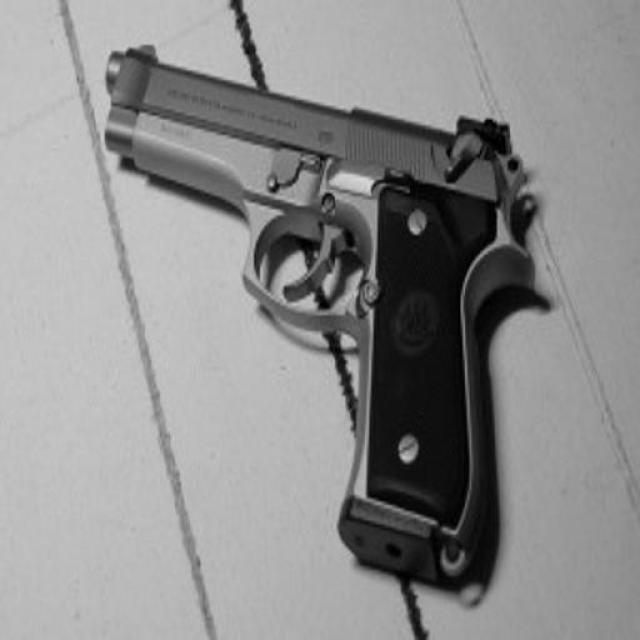pistol: (104, 41, 545, 603)
